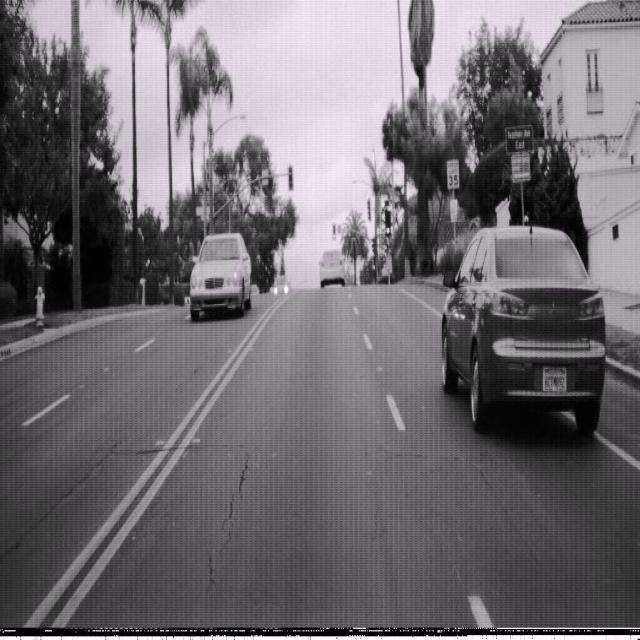speedLimit35: (446, 157, 460, 190)
